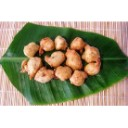bonda: (67, 48, 84, 70), (84, 44, 102, 62), (24, 58, 41, 77), (71, 70, 87, 86), (46, 52, 64, 66), (38, 68, 54, 83), (57, 65, 72, 80), (24, 43, 39, 58), (84, 63, 102, 75), (55, 33, 67, 50), (72, 36, 86, 49), (41, 38, 54, 51)
